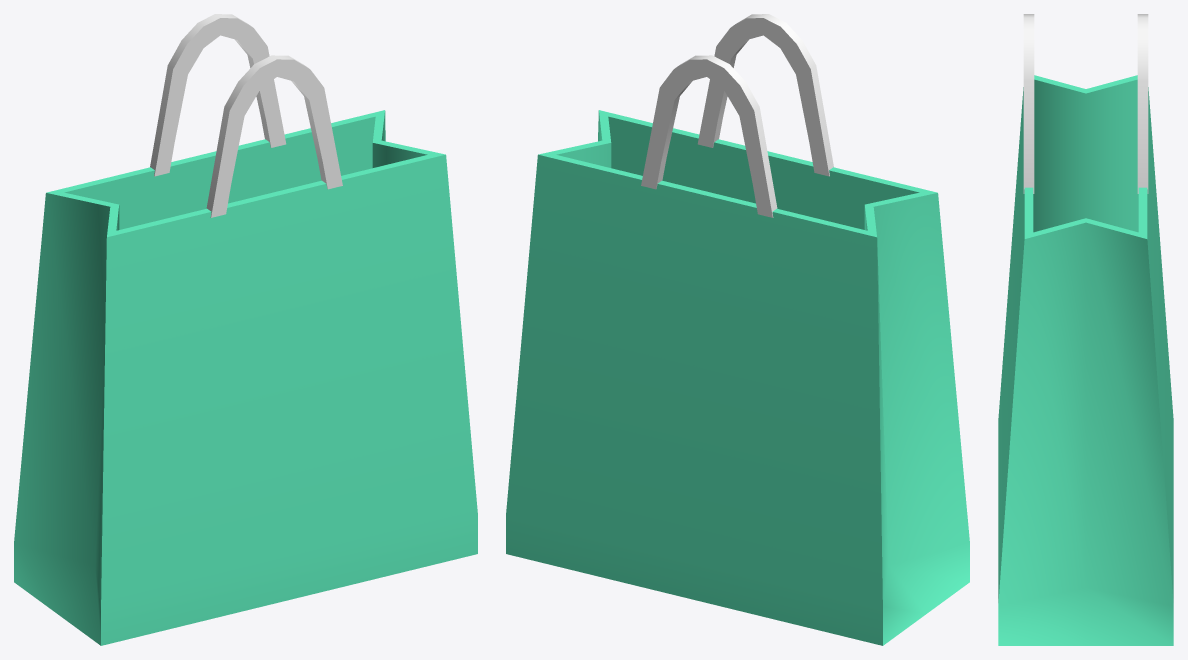
Rendered from shoppingBag.glb.
3 views of the same model, side by side, from view 1: azimuth 30°, elevation 25°; view 2: azimuth 150°, elevation 25°; view 3: azimuth 270°, elevation 25° (orthographic).
Parts seen in each view (by area): view 1: Cube.013, Cube.015, Cube.014; view 2: Cube.013, Cube.014, Cube.015; view 3: Cube.013, Cube.014, Cube.015.
Boxes of the visible parts, x1,y1,x2,y2 form: Cube.013: (14, 110, 477, 645); Cube.015: (206, 55, 342, 217); Cube.014: (150, 14, 286, 176); Cube.013: (506, 110, 969, 645); Cube.014: (641, 55, 777, 217); Cube.015: (697, 14, 833, 176); Cube.013: (998, 75, 1173, 645); Cube.014: (1137, 14, 1148, 193); Cube.015: (1023, 14, 1034, 193).
Bounding box in the file's own units: 1 × 1.35 × 0.4.
Materials: 1 (1 with a texture image).
